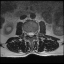CCS_normal: (29, 29, 31, 39)
LFS_normal: (34, 29, 36, 36)
LLS_normal: (31, 30, 34, 37)
RFS_normal: (25, 29, 27, 36)
RLS_normal: (27, 30, 29, 37)
